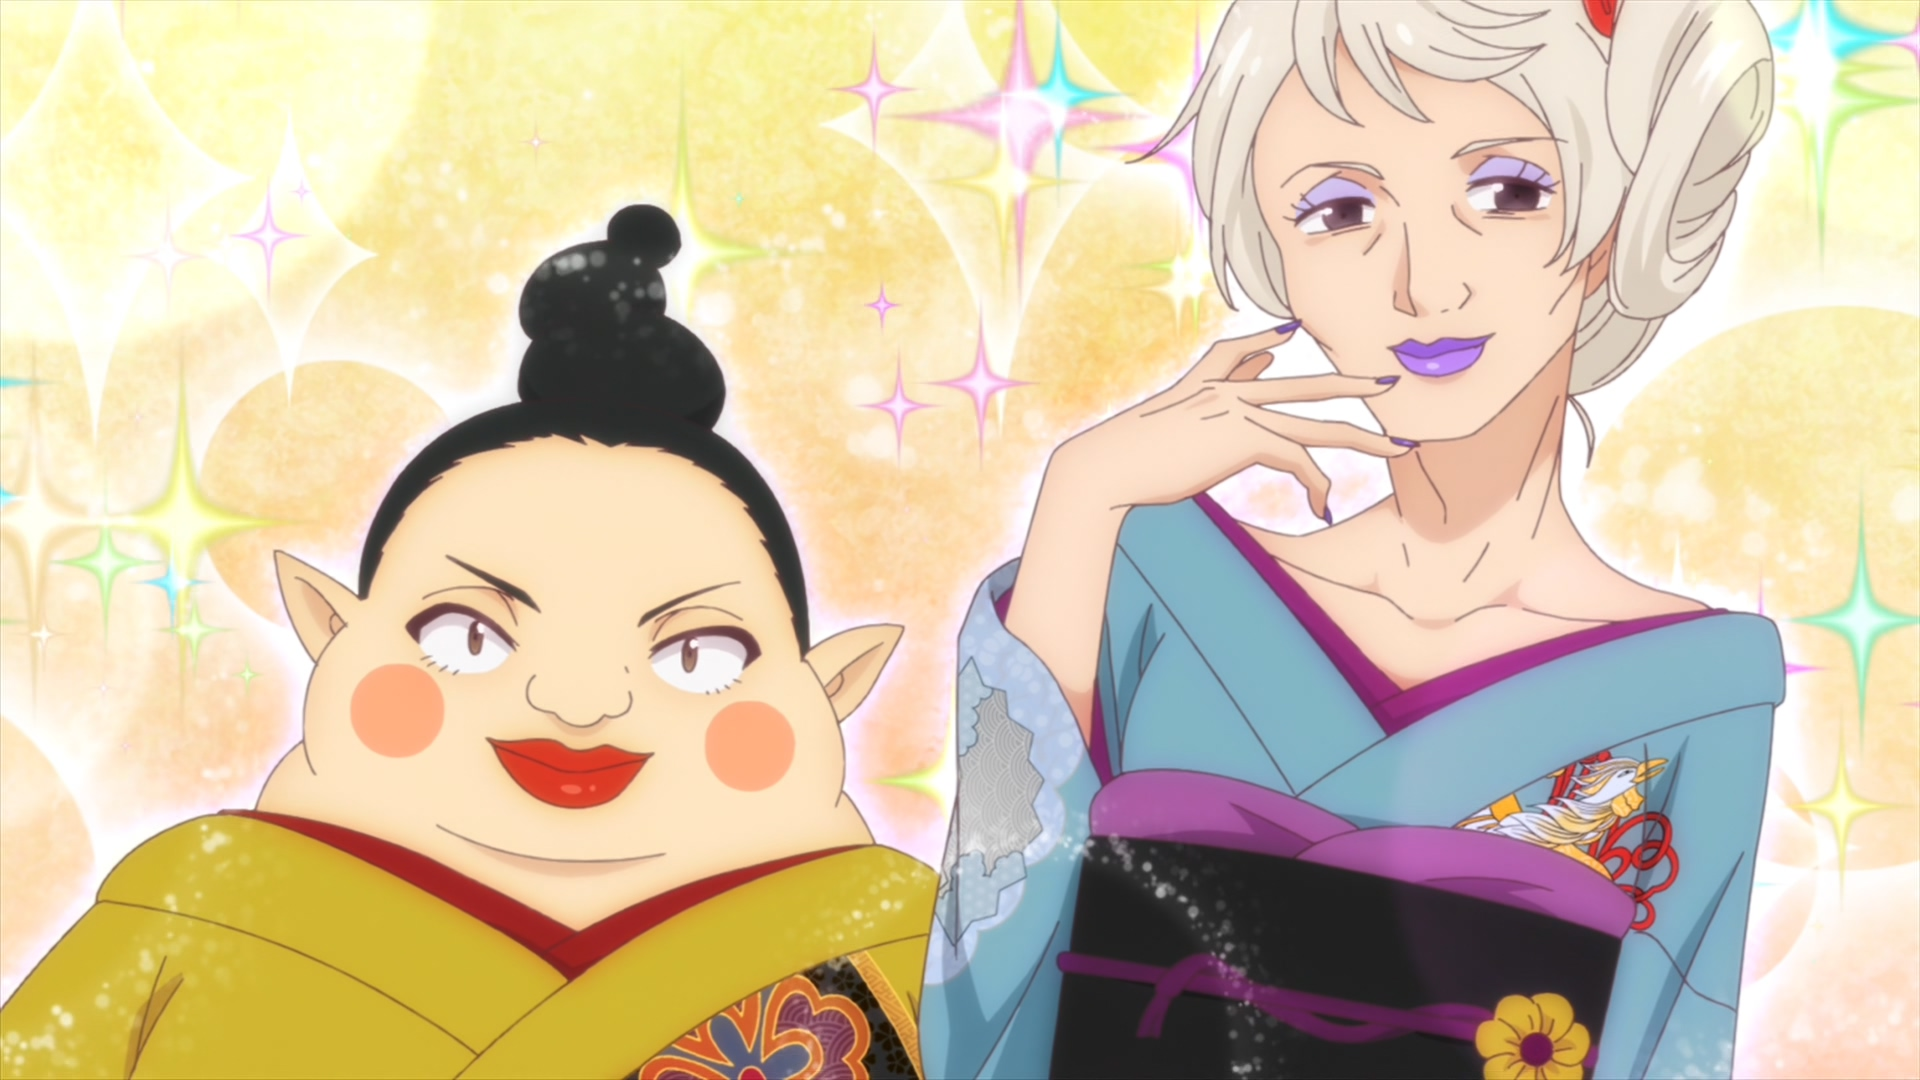其他: (919, 1, 1785, 1080), (1, 206, 942, 1080)
